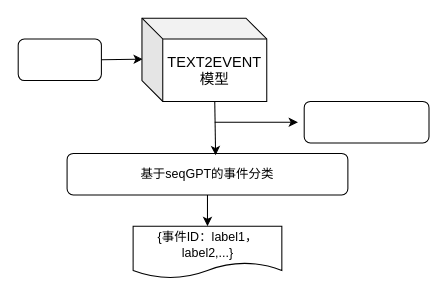
Some shapes in this 447 by 296 pixel diagram are drawn without their labels. Here are the shapes that lost their labels. From the top down, the centre of each, then its label:
At (59,59): "输入信息".
At (366,121): "习惯细节事件检索".
